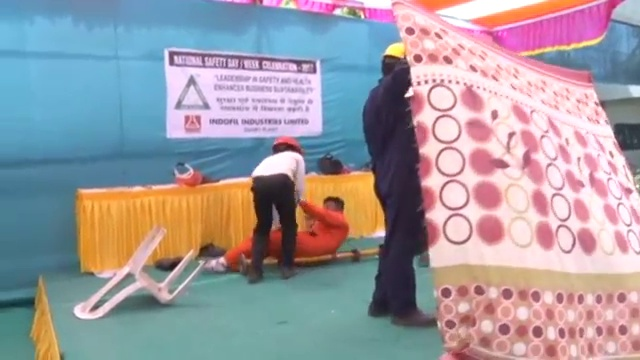helmet: (384, 36, 406, 62), (273, 133, 302, 152)
helmet_off: (321, 193, 345, 215)
helmet_on: (381, 35, 406, 78), (272, 132, 303, 153)
person: (358, 36, 441, 328), (210, 194, 352, 276), (246, 132, 306, 284)
